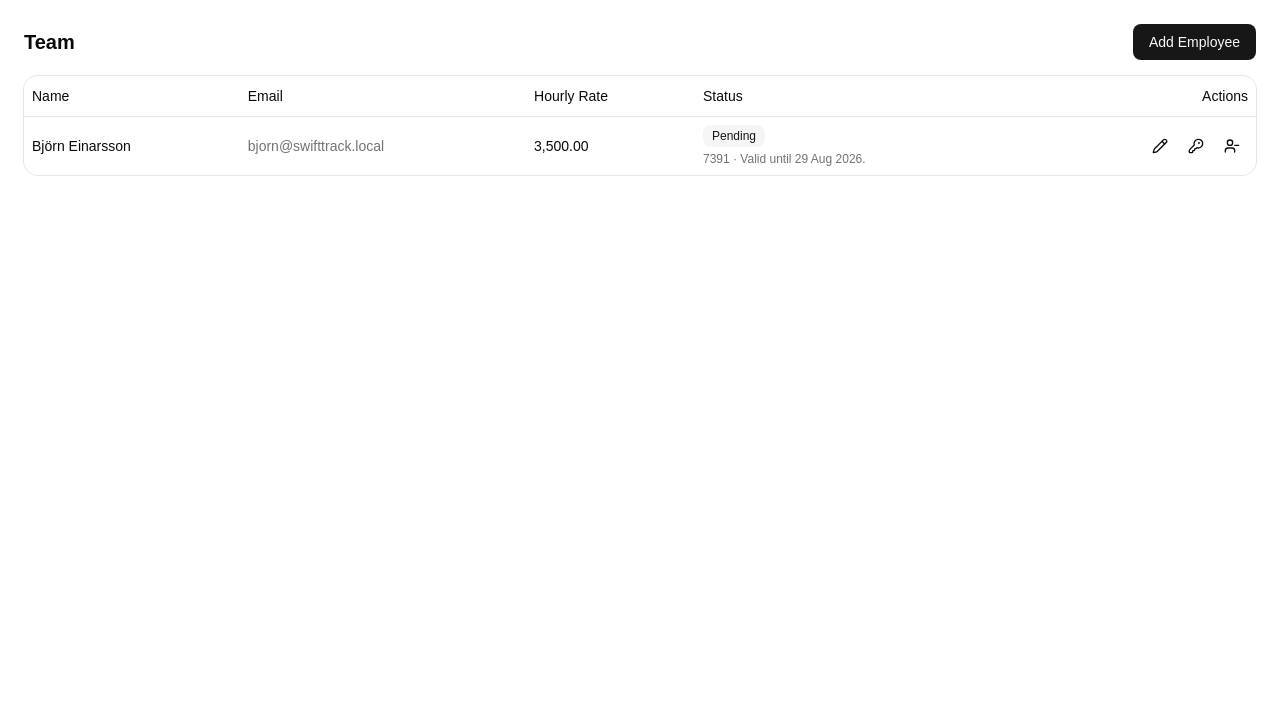
Test: TeamPage — the setup code and its expiry › opens the dialog with the new code after New code
This screenshot has width=1280, height=720.
Click the button named "New code" at {"x": 1196, "y": 146}, box [1180,130,1212,162]
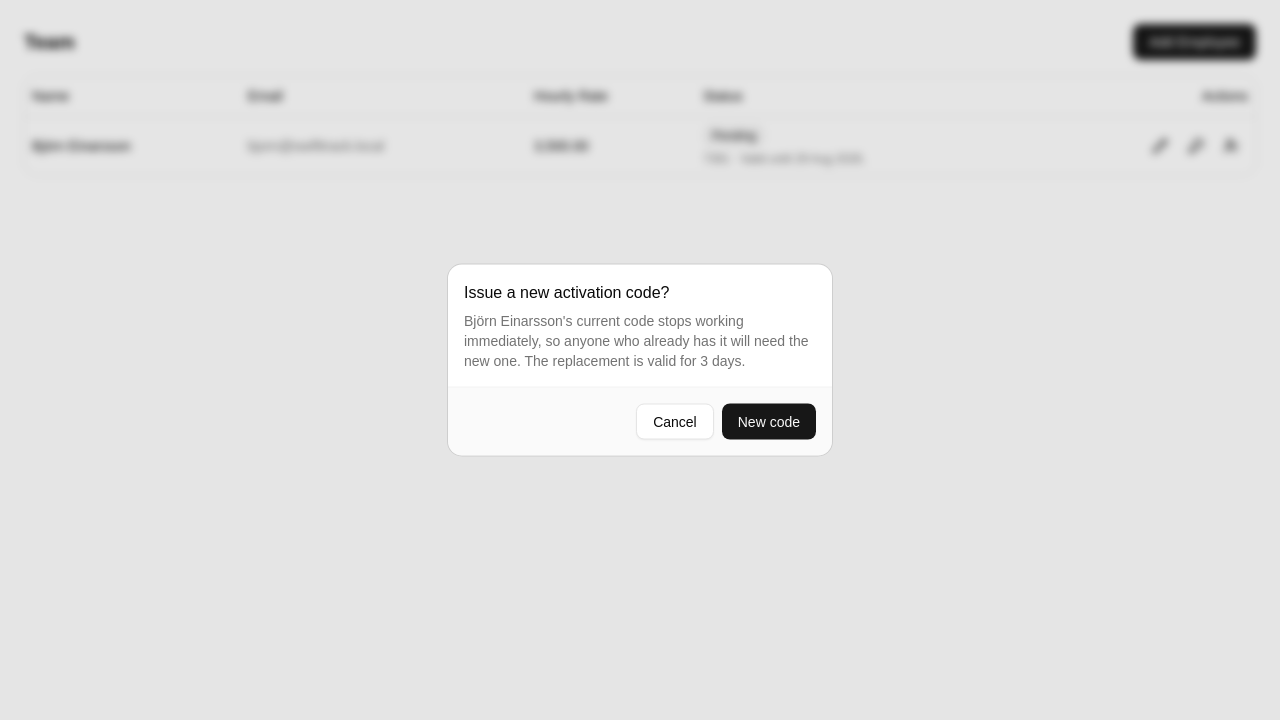
Click the button "New code" at {"x": 769, "y": 422}, box [722,404,816,440]
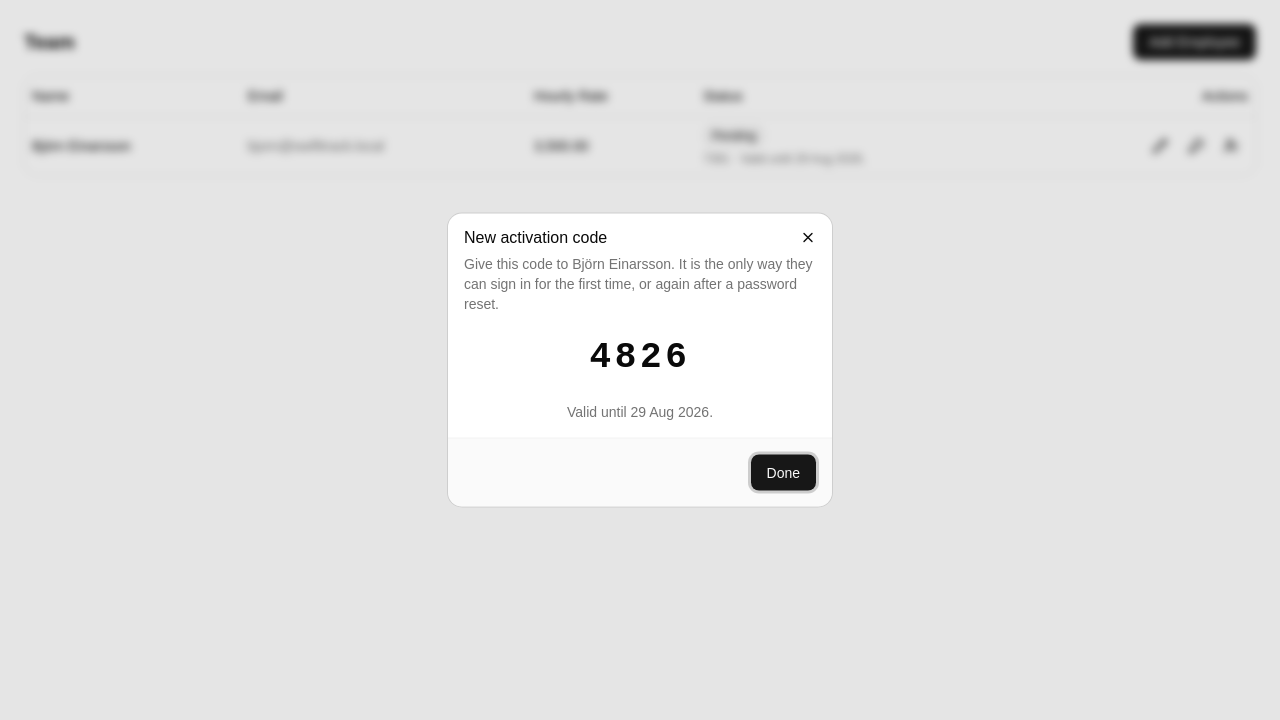
Now the heading "New activation code" is shown, box [464,228,607,246]
Now the text "4826" is shown, box [590,336,690,378]
